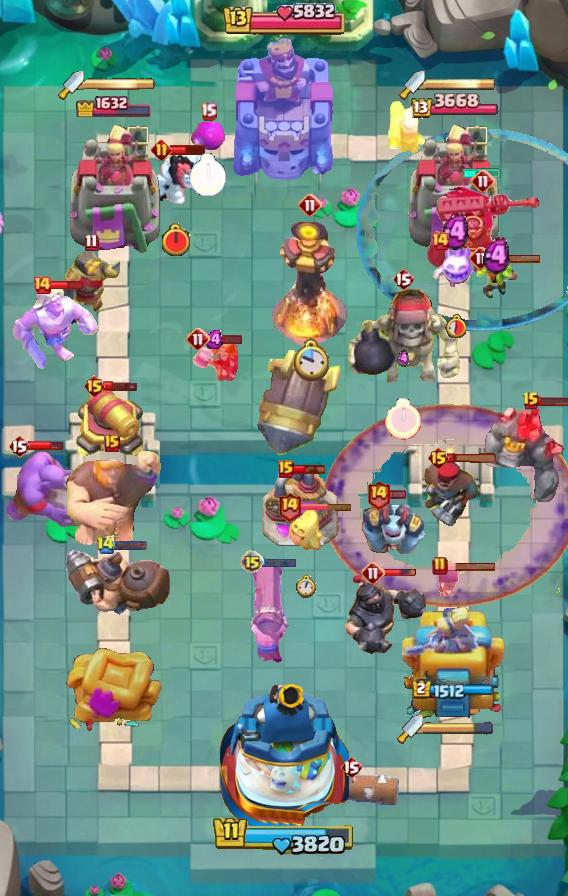archer-queen: (0, 450, 96, 530)
balloon: (63, 448, 161, 550)
bar: (399, 607, 507, 731), (67, 122, 161, 256), (406, 122, 500, 256)
bat-evolution: (289, 507, 323, 551)
battle-healer: (245, 560, 291, 664)
cannoneer-tower: (478, 403, 568, 505)
clock: (212, 815, 356, 857), (221, 0, 347, 40)
electro-dragon: (271, 219, 349, 345)
electro-giant: (344, 287, 462, 401)
electro-spirit: (482, 237, 509, 275), (443, 213, 469, 251), (205, 330, 225, 349), (397, 350, 409, 368)
elixir: (189, 153, 227, 197), (292, 338, 329, 383), (385, 398, 421, 440), (160, 223, 192, 257), (446, 314, 467, 338), (296, 574, 316, 598)
elixir-golem-small: (362, 496, 426, 554)
emote: (490, 252, 542, 263), (447, 453, 499, 464), (445, 560, 497, 571), (299, 501, 353, 511), (170, 144, 207, 157), (28, 440, 64, 453), (103, 380, 139, 392), (291, 463, 327, 475), (112, 540, 148, 552), (50, 279, 85, 291), (208, 333, 243, 345), (263, 556, 298, 568), (538, 395, 568, 407), (383, 568, 417, 578), (388, 488, 407, 499)
firecracker: (62, 251, 120, 313)
goblin: (436, 565, 462, 601)
goblin-hut: (10, 286, 98, 372)
hog-rider: (191, 337, 239, 383)
ice-spirit: (462, 166, 504, 178)
inferno-tower: (425, 187, 541, 275)
king-tower: (219, 678, 349, 826), (228, 35, 340, 181)
king-tower-bar: (84, 77, 156, 91), (425, 77, 495, 91), (423, 722, 493, 736)
miner: (190, 122, 226, 152)
minion: (300, 769, 402, 805)
mirror: (431, 241, 479, 289)
pad_0: (356, 128, 567, 332)
pekka: (261, 466, 339, 548)
phoenix-small: (421, 458, 481, 530)
rage: (147, 150, 205, 208)
rocket: (322, 404, 568, 608)
royal-guardian: (342, 573, 432, 657)
royal-recruit: (73, 387, 145, 461)
selected: (408, 93, 498, 121), (75, 93, 153, 117), (413, 679, 496, 700)
text: (277, 490, 302, 521), (366, 478, 390, 509), (471, 169, 495, 193), (298, 193, 322, 217), (469, 246, 493, 270), (186, 327, 210, 351), (240, 550, 264, 574), (361, 561, 385, 585), (83, 374, 106, 398), (427, 446, 450, 470), (392, 267, 414, 291), (8, 434, 30, 458), (340, 755, 362, 779), (151, 140, 172, 161), (430, 231, 450, 251), (32, 275, 52, 295), (522, 391, 540, 411), (97, 537, 116, 555), (199, 103, 217, 121), (432, 556, 448, 576), (104, 434, 120, 452), (278, 460, 294, 478), (85, 232, 99, 251)
tombstone: (386, 98, 428, 156)
wizard: (62, 547, 174, 617)
x-bow: (257, 349, 341, 456)
zap: (473, 254, 519, 300)
